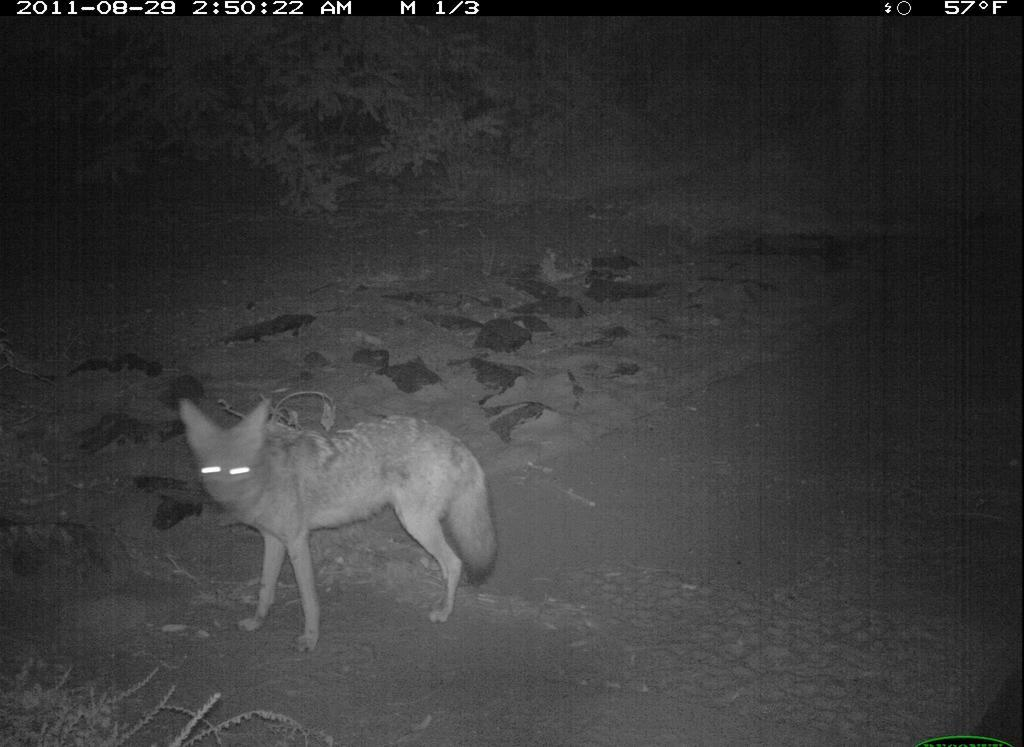coyote: (169, 383, 514, 664)
